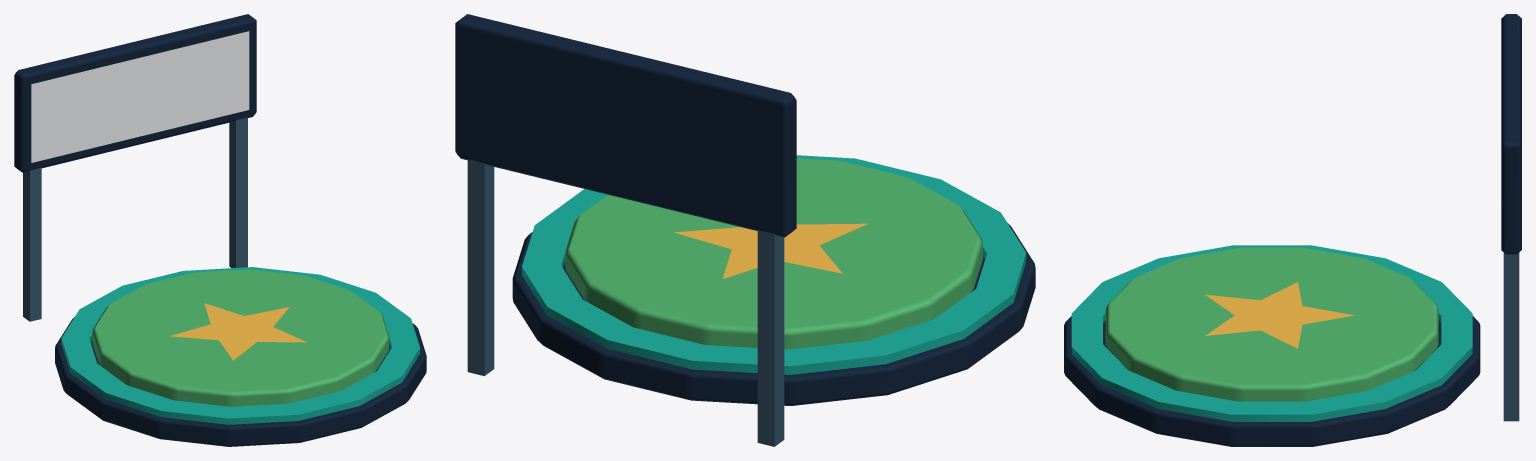
File: CM_Tycoon_PurchasePad.fbx
3 renders of one model, left to right at view 1: azimuth 30°, elevation 25°; view 2: azimuth 150°, elevation 25°; view 3: azimuth 270°, elevation 25°, orthographic. The views are drawn at different scales.
Visible parts, largest first — view 1: Button, PriceBoard, Base, Body; view 2: Button, PriceBoard, Base, Body; view 3: Button, Base, PriceBoard, Body.
Boxes of the visible parts, left/top/right/bottom form: Button: left=92, top=269, right=389, bottom=406; PriceBoard: left=14, top=14, right=256, bottom=172; Base: left=55, top=267, right=426, bottom=446; Body: left=23, top=117, right=247, bottom=321; Button: left=565, top=158, right=982, bottom=349; PriceBoard: left=455, top=14, right=796, bottom=237; Base: left=512, top=155, right=1035, bottom=405; Body: left=467, top=159, right=784, bottom=446; Button: left=1105, top=247, right=1438, bottom=401; Base: left=1064, top=245, right=1480, bottom=446; PriceBoard: left=1501, top=14, right=1521, bottom=254; Body: left=1503, top=252, right=1519, bottom=421.
Size of the model in its own units: 8 by 8.8 by 6.
1 material, 1 textured.
